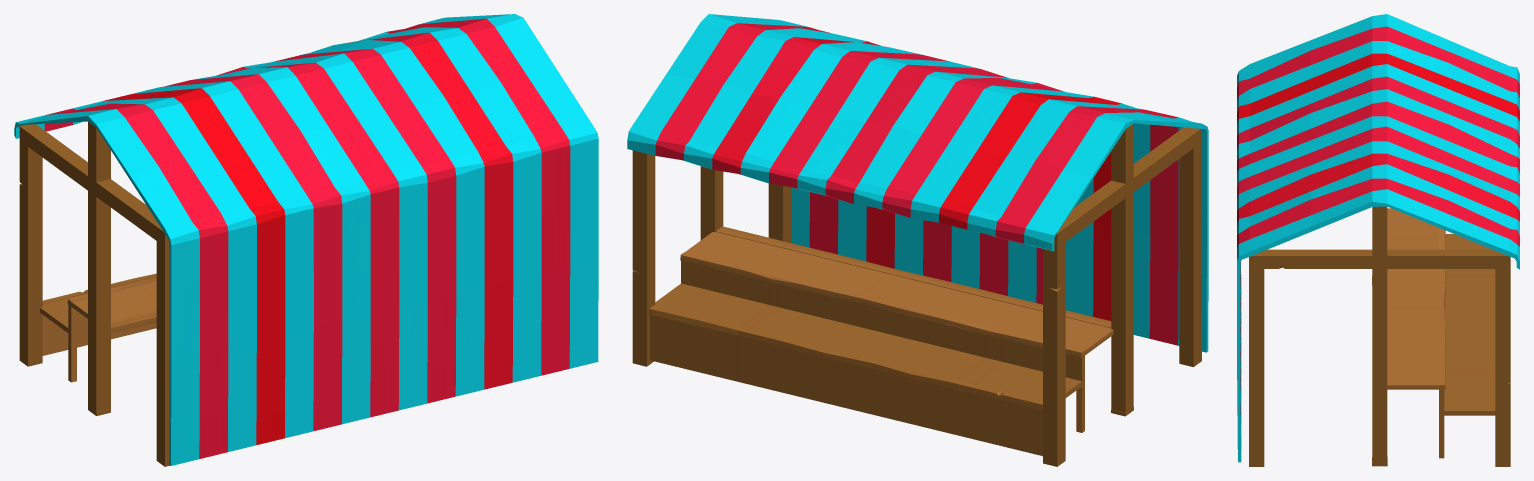
File: stall.fbx
3 renders of one model, left to right at view 1: azimuth 30°, elevation 25°; view 2: azimuth 150°, elevation 25°; view 3: azimuth 270°, elevation 25°, orthographic. The views are drawn at different scales.
Parts seen in each view (by area): view 1: Stall; view 2: Stall; view 3: Stall.
Boxes of the visible parts, left/top/right/bottom form: Stall: left=14, top=14, right=598, bottom=466; Stall: left=627, top=14, right=1208, bottom=466; Stall: left=1237, top=14, right=1519, bottom=466.
Bounding box in the file's own units: 622 × 410 × 396.
3 materials, 3 textured.
